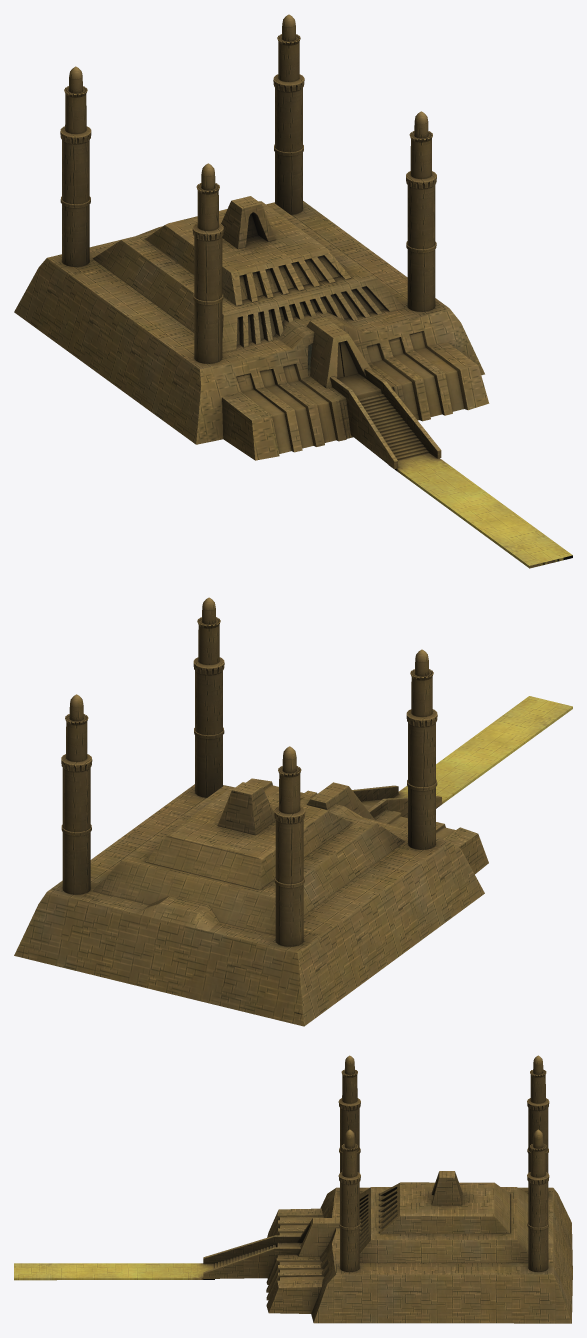
Rendered from TempleBuilding.FBX.
3 renders of one model, top to bottom at view 1: azimuth 30°, elevation 25°; view 2: azimuth 150°, elevation 25°; view 3: azimuth 270°, elevation 25°, orthographic. The views are drawn at different scales.
Visible parts, largest first — view 1: buildingExterior; view 2: buildingExterior; view 3: buildingExterior.
Part boxes in pixels (x1=…): buildingExterior: x1=14, y1=14, x2=572, y2=568; buildingExterior: x1=14, y1=597, x2=572, y2=1026; buildingExterior: x1=14, y1=1055, x2=572, y2=1323.
Size of the model in its own units: 6937 by 5795 by 16257.
1 material, 1 textured.
